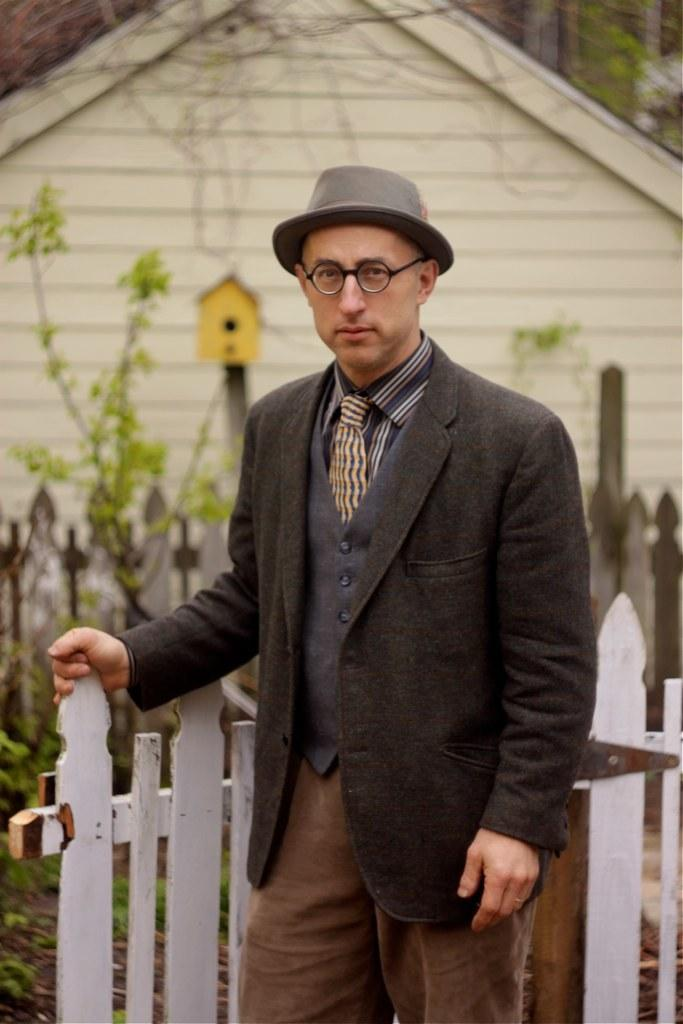Hat: (272, 161, 456, 273)
